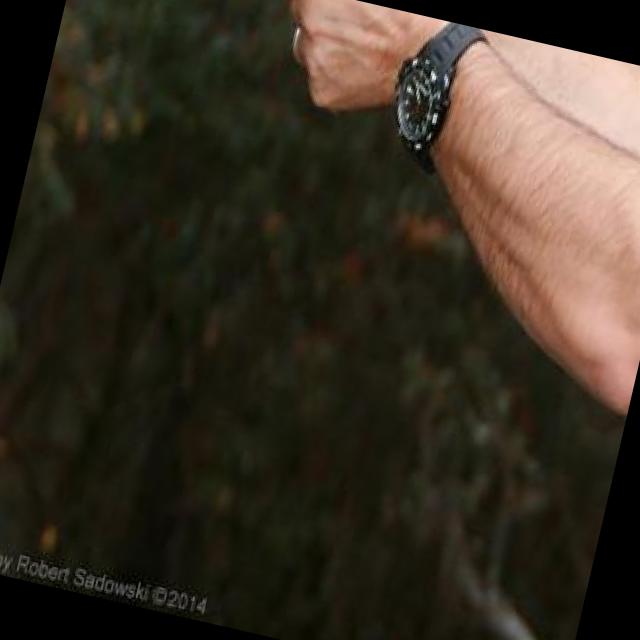Guns: (139, 0, 370, 25)
